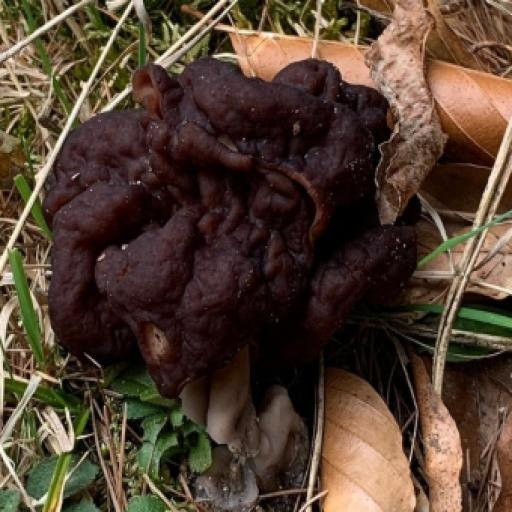mushroom: (34, 53, 422, 371)
